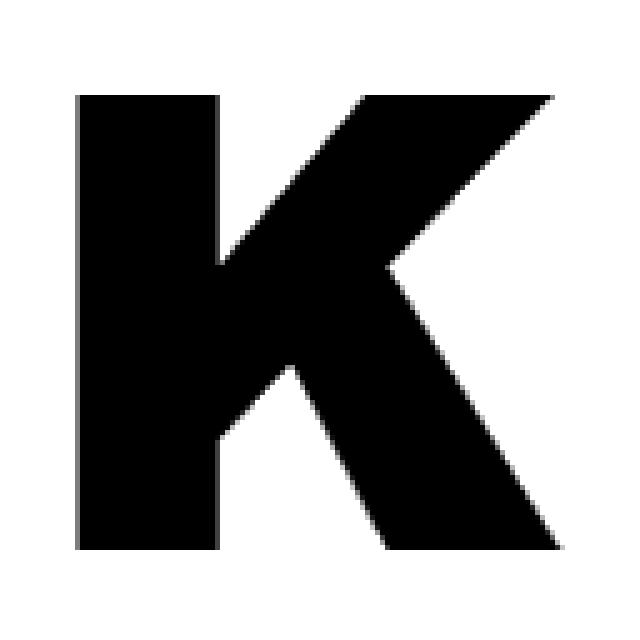K: (70, 85, 565, 555)
